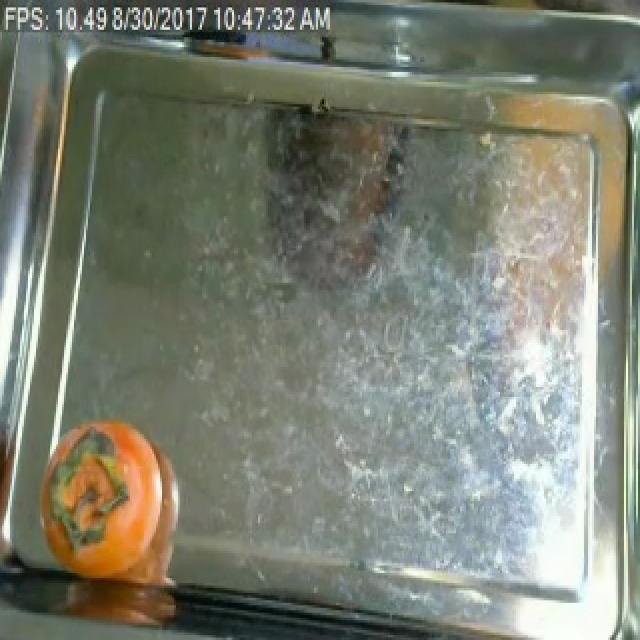Fruit: (26, 404, 186, 613)
